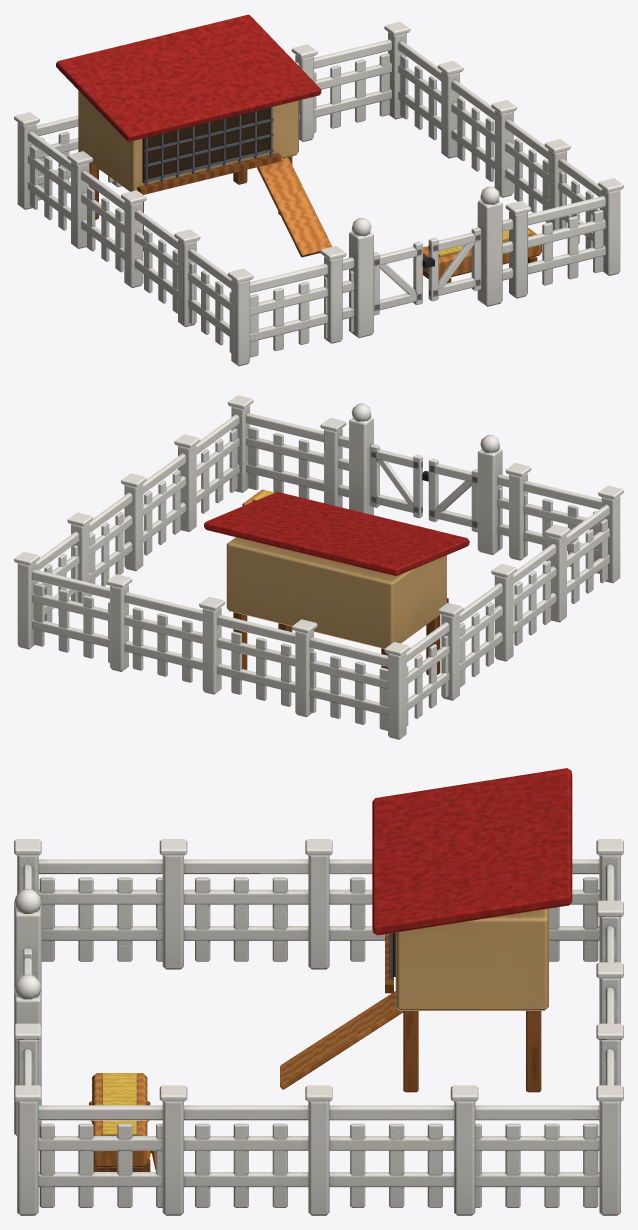
File: rabbit_hutch.glb
3 views of the same model, one above another, from view 1: azimuth 30°, elevation 25°; view 2: azimuth 150°, elevation 25°; view 3: azimuth 270°, elevation 25° (orthographic). The views are drawn at different scales.
Parts seen in each view (by area): view 1: rabbit_hutch; view 2: rabbit_hutch; view 3: rabbit_hutch.
Part boxes in pixels (box(x1,y1,x2,y2)): rabbit_hutch: box(14, 14, 623, 366); rabbit_hutch: box(14, 395, 623, 739); rabbit_hutch: box(14, 768, 623, 1215).
Bounding box in the file's own units: 1.99 × 0.7573 × 1.99.
Materials: 1 (1 with a texture image).
